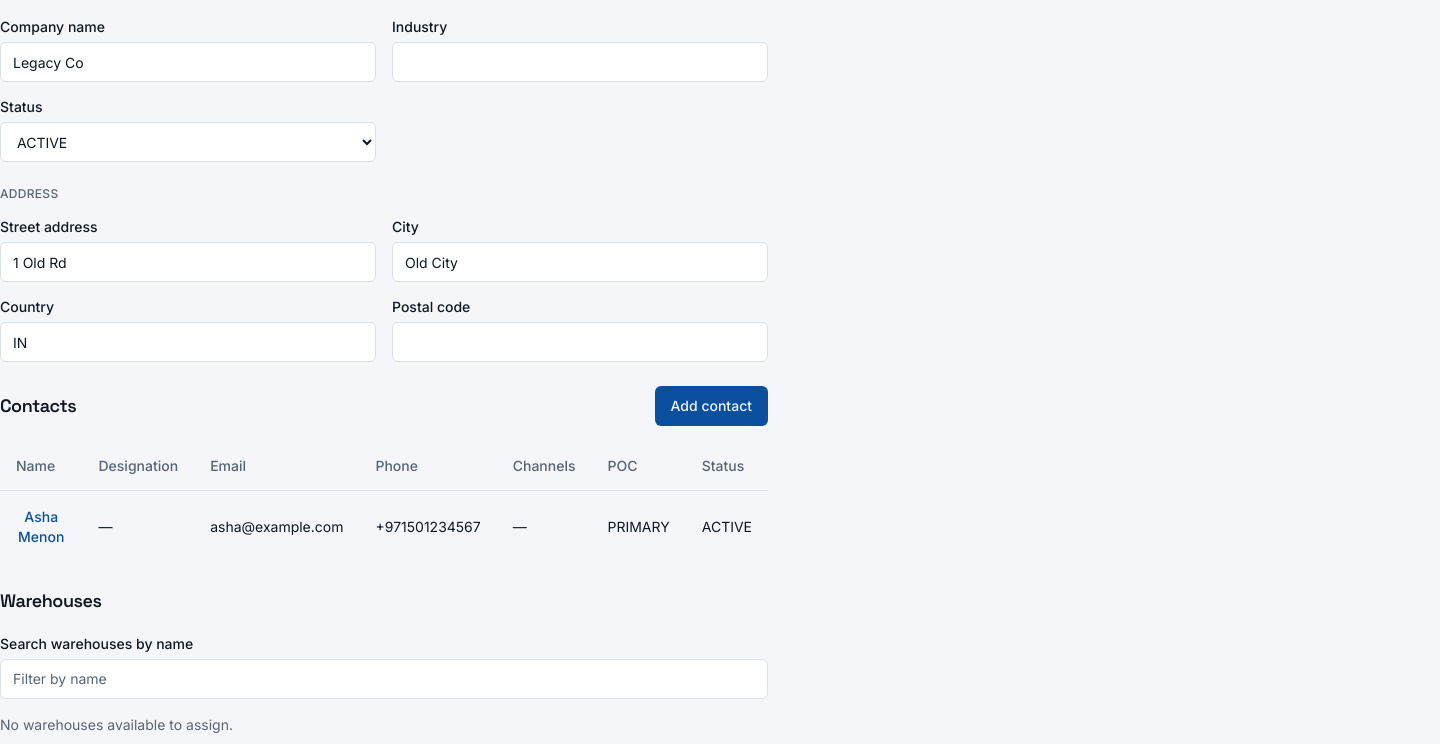
Test: ClientFormPage (edit) › arms the discard guard when only a contact was changed
This screenshot has width=1440, height=744.
Click the button with aria-label "edit asha menon" at (41, 526), box [16,506,66,546]
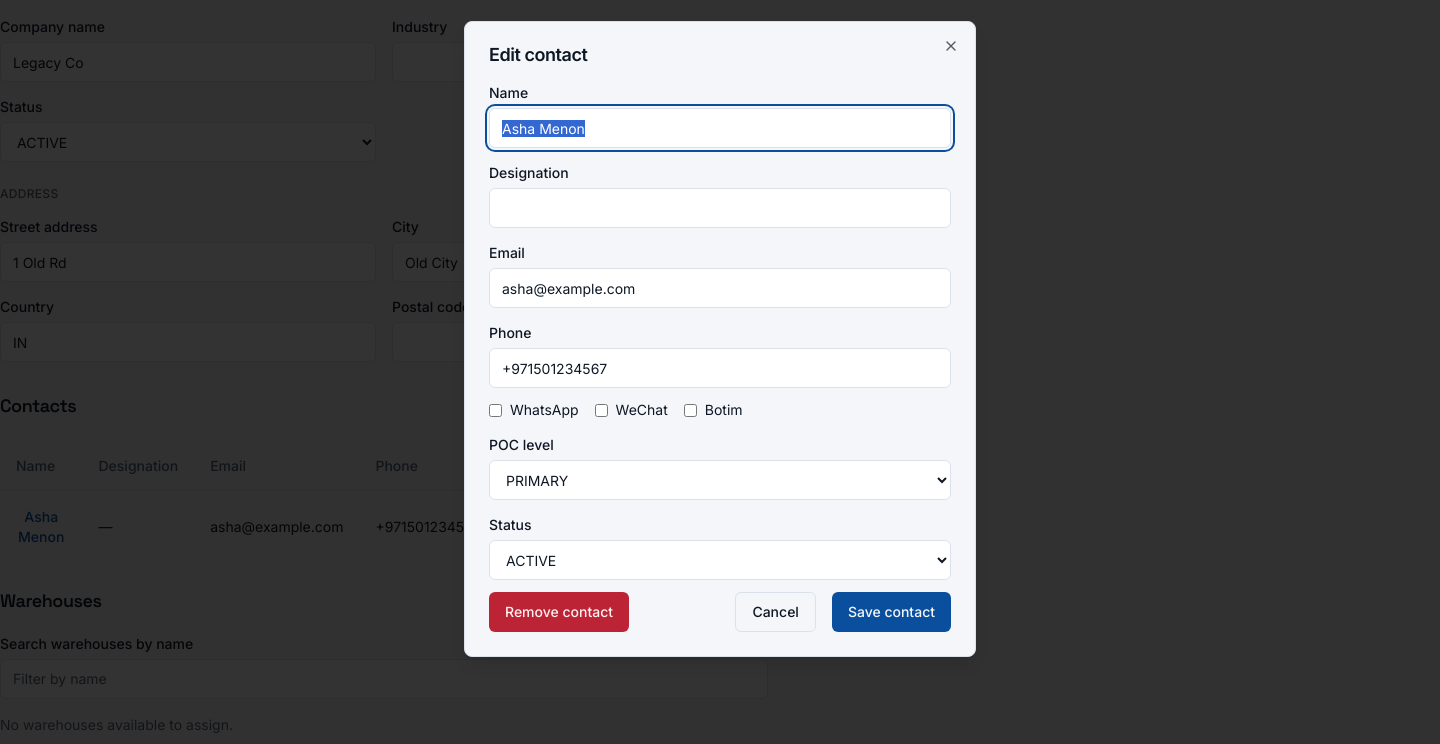
Replace the text in the field labelled "Name" with "Asha Menon-Rao" at (720, 128), box [489,108,951,148]
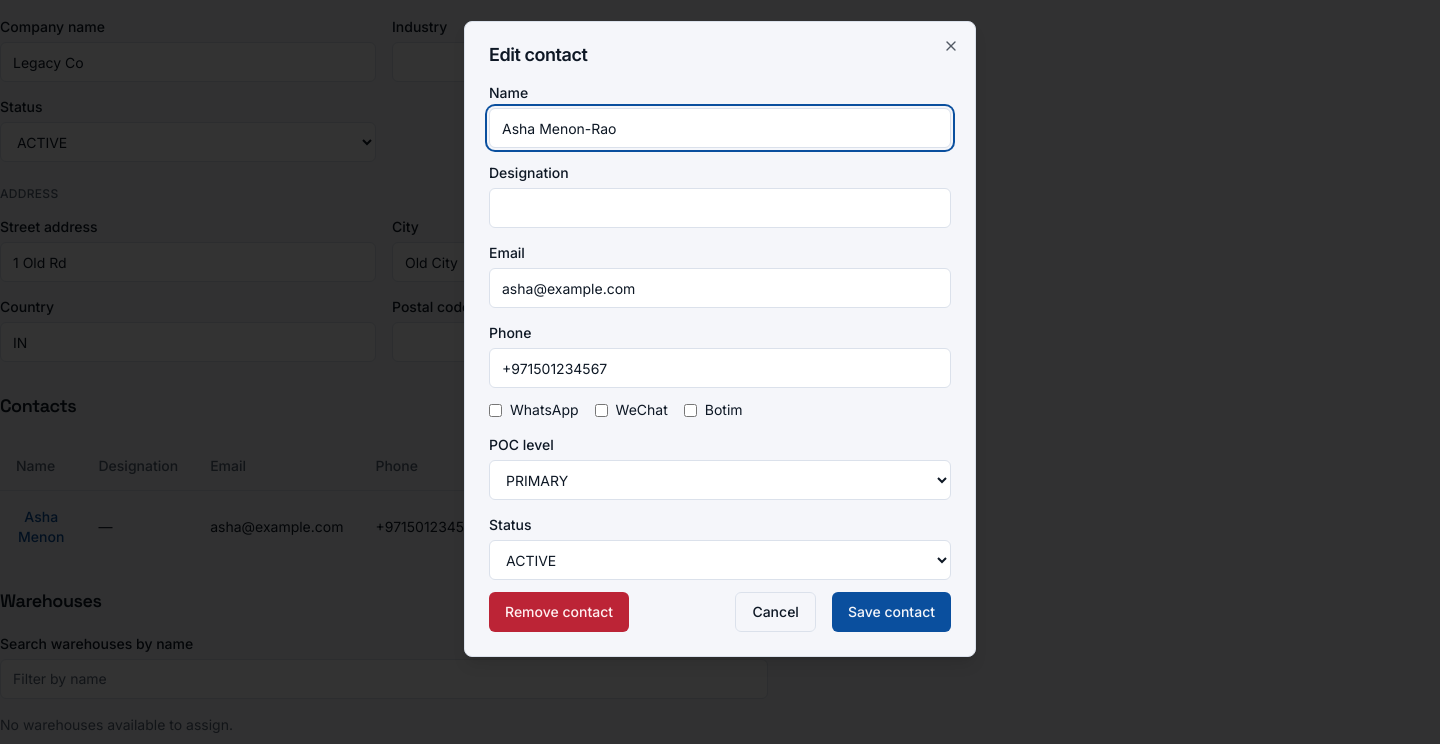
Click the button "Save contact" at (891, 612), box [832,592,951,632]
(page scrolled)
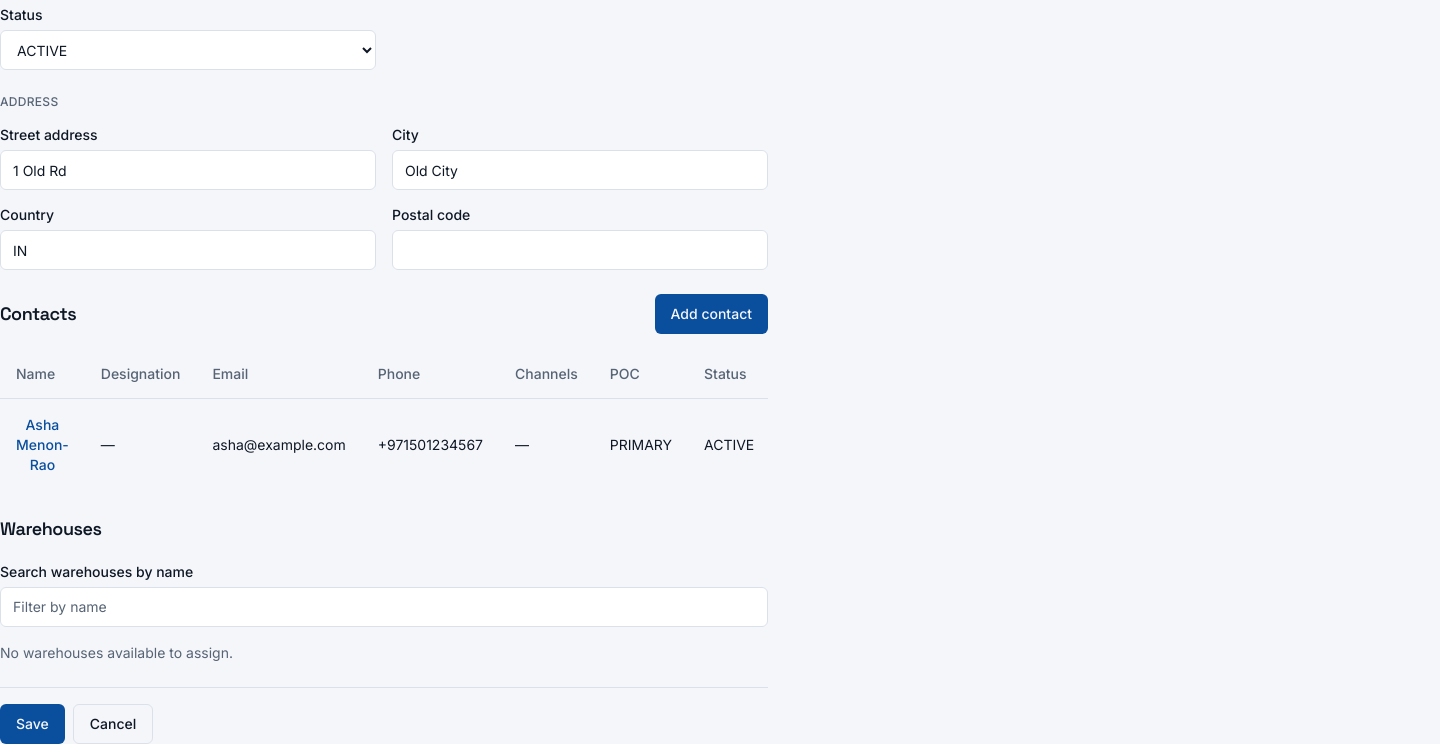
Click the button "Cancel" at (113, 724), box [73,704,153,743]
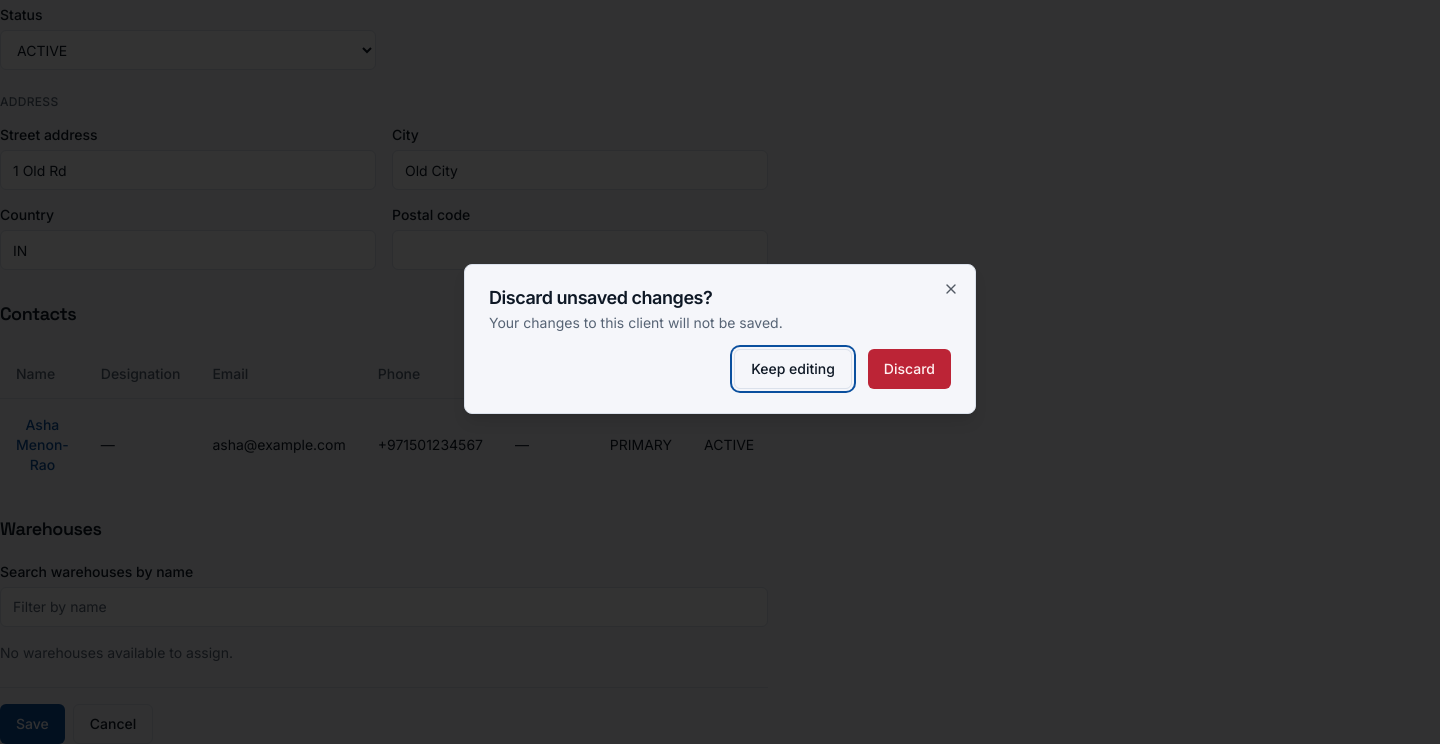
Expected: the heading "Discard unsaved changes?" is shown, [489,287,712,308]
